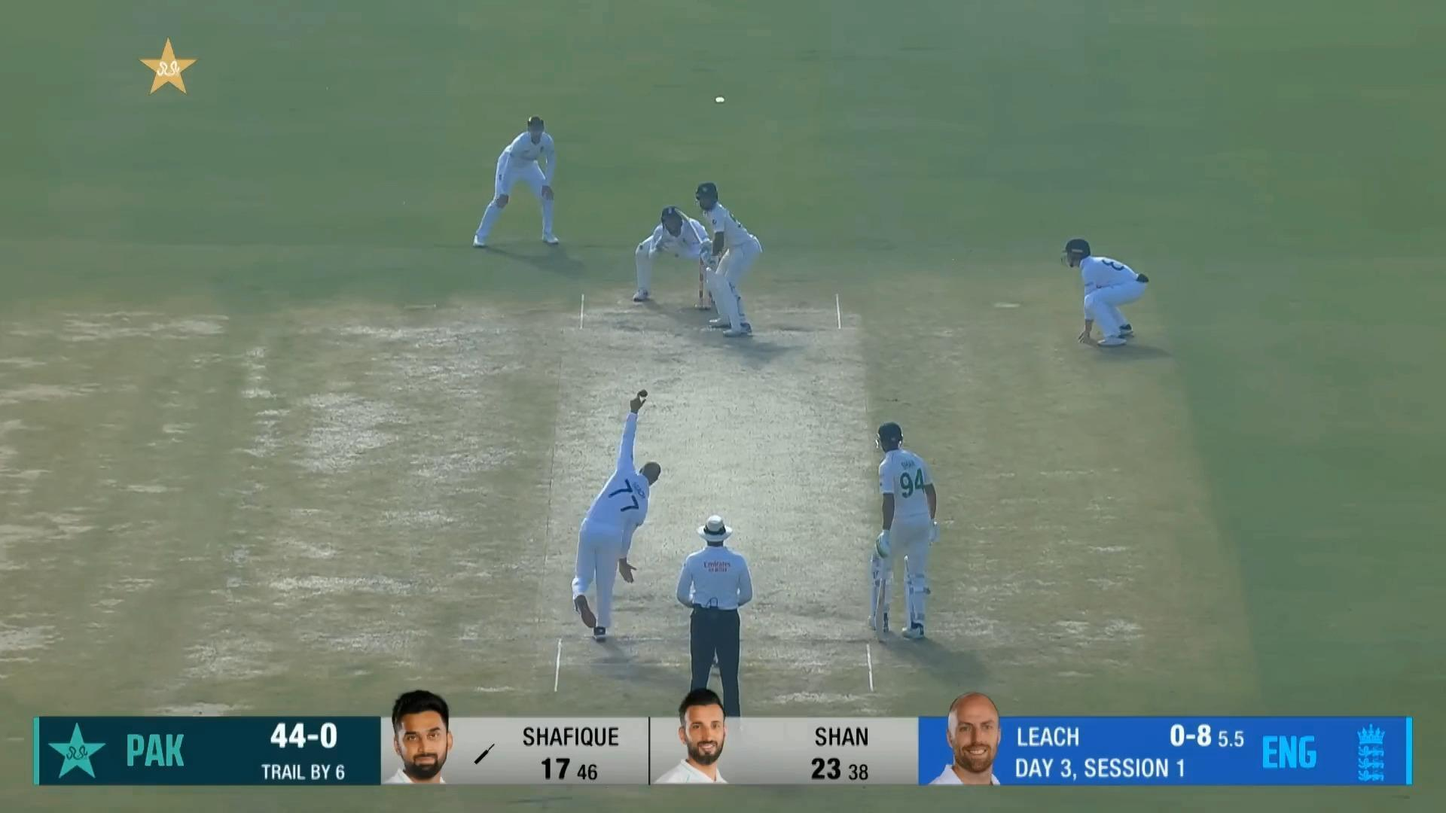BM 1: (674, 181, 764, 337)
BO: (571, 393, 662, 643)
